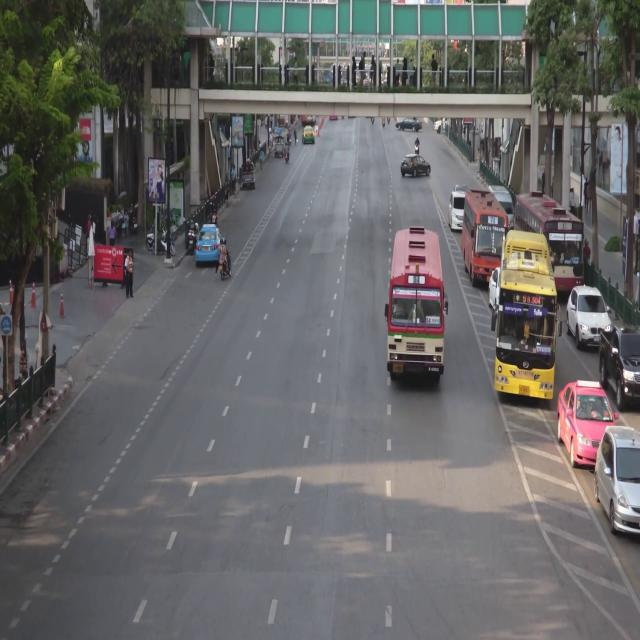bus: (497, 235, 553, 403), (390, 228, 445, 386), (514, 199, 581, 295), (466, 192, 507, 289)
car: (596, 425, 640, 536), (600, 326, 640, 409), (568, 287, 612, 350), (489, 187, 514, 231), (401, 155, 431, 178), (450, 191, 466, 229), (490, 266, 500, 313), (395, 119, 422, 133), (435, 117, 447, 133), (455, 184, 468, 192)
pedestrian: (125, 250, 134, 299), (584, 177, 589, 213), (87, 212, 92, 247), (109, 222, 116, 246), (124, 210, 129, 235), (231, 164, 235, 195), (225, 173, 229, 203), (260, 148, 264, 173), (294, 128, 298, 147), (269, 143, 272, 164), (265, 114, 268, 130), (258, 139, 261, 147)
taxi: (557, 381, 615, 476), (196, 226, 221, 270), (302, 126, 315, 144)
